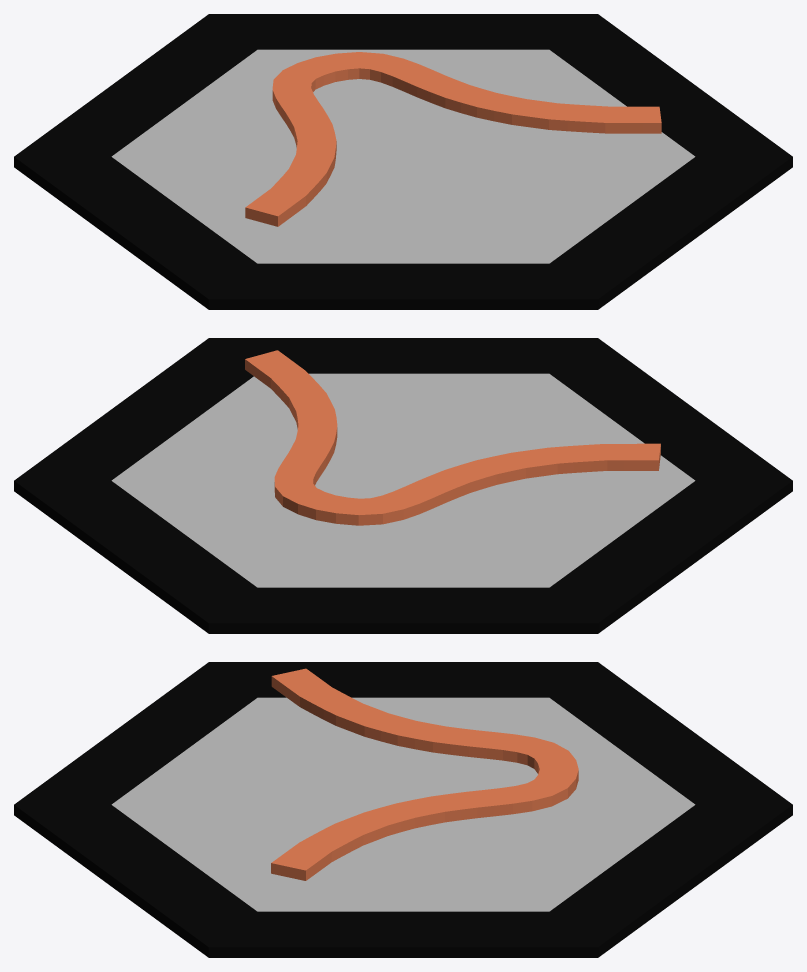
File: smooth_opt.fbx
The picture shows the model from 3 angles, top to bottom: view 1: azimuth 30°, elevation 25°; view 2: azimuth 150°, elevation 25°; view 3: azimuth 270°, elevation 25°; orthographic projection.
Visible parts, largest first — view 1: Circle; view 2: Circle; view 3: Circle.
Part boxes in pixels (bbox=[...]): Circle: bbox=[14, 14, 792, 309]; Circle: bbox=[14, 338, 792, 633]; Circle: bbox=[14, 662, 792, 957].
Size of the model in its own units: 173 by 13 by 200.
